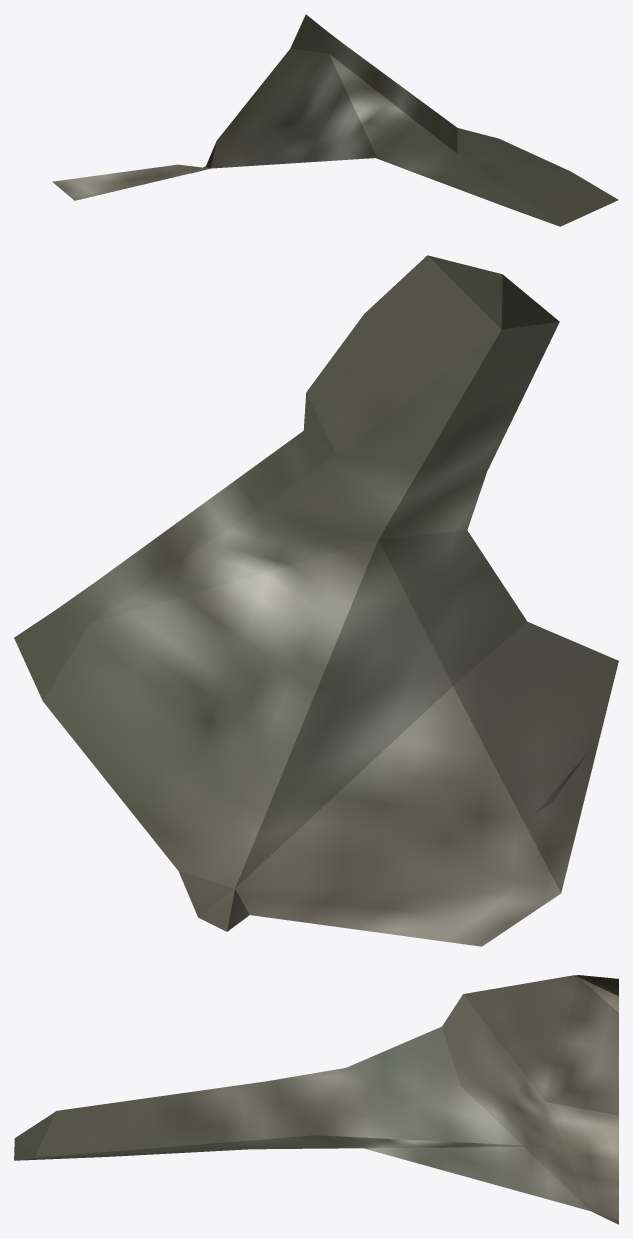
3 views of the same model, one above another, from view 1: azimuth 30°, elevation 25°; view 2: azimuth 150°, elevation 25°; view 3: azimuth 270°, elevation 25° (orthographic). The views are drawn at different scales.
Bounding box in the file's own units: 0.5056 × 0.1874 × 0.6945.
Materials: 1 (1 with a texture image).
